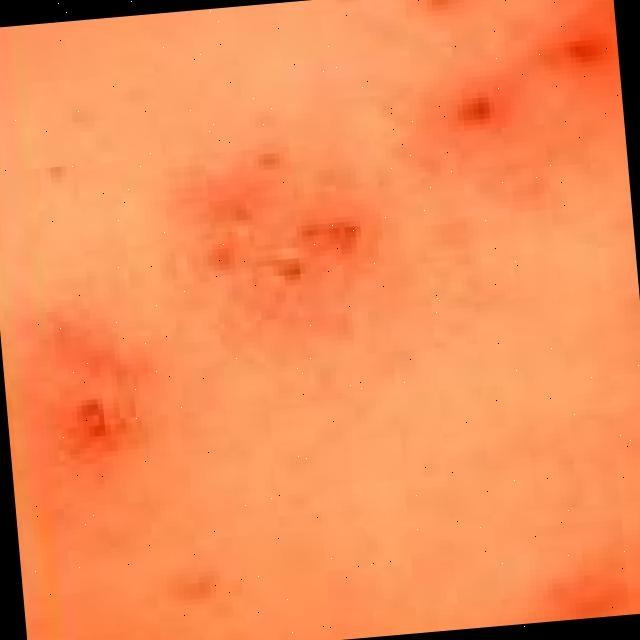Shingles: (206, 161, 359, 291), (66, 388, 126, 448), (558, 26, 606, 70), (453, 94, 495, 138)
